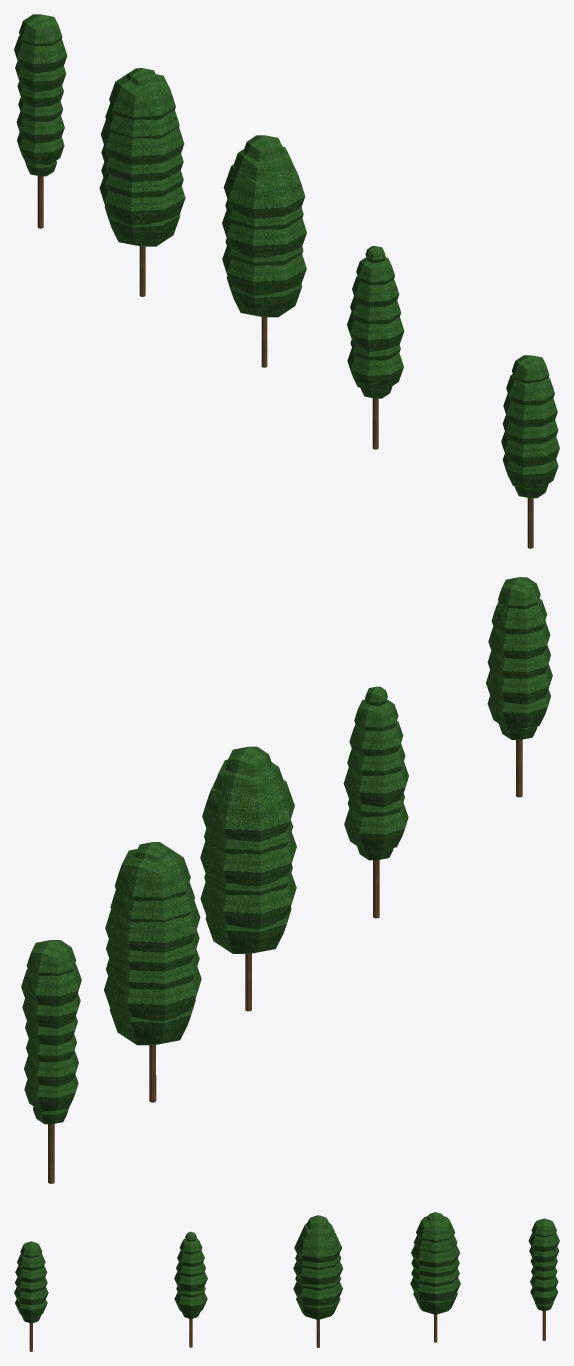
File: data3.glb
The picture shows the model from 3 angles, top to bottom: view 1: azimuth 30°, elevation 25°; view 2: azimuth 150°, elevation 25°; view 3: azimuth 270°, elevation 25°; orthographic projection. The views are drawn at different scales.
Size of the model in its own units: 5.69 by 12.82 by 48.17.
Materials: 1 (1 with a texture image).
